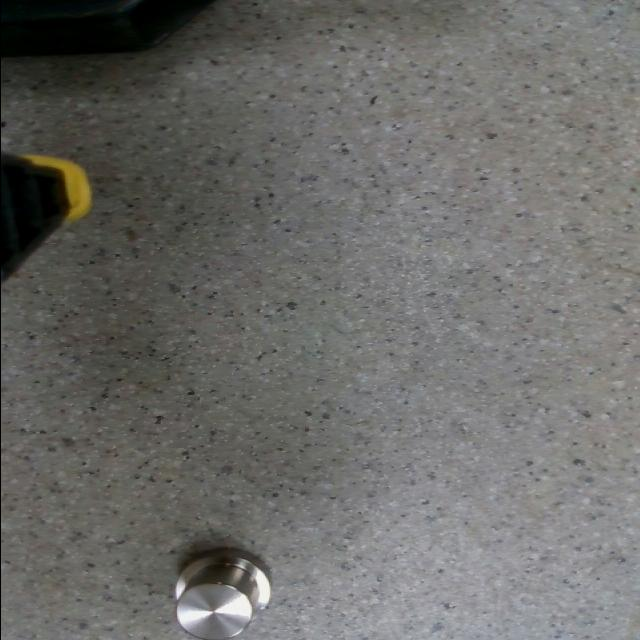sensor: (172, 548, 272, 638)
